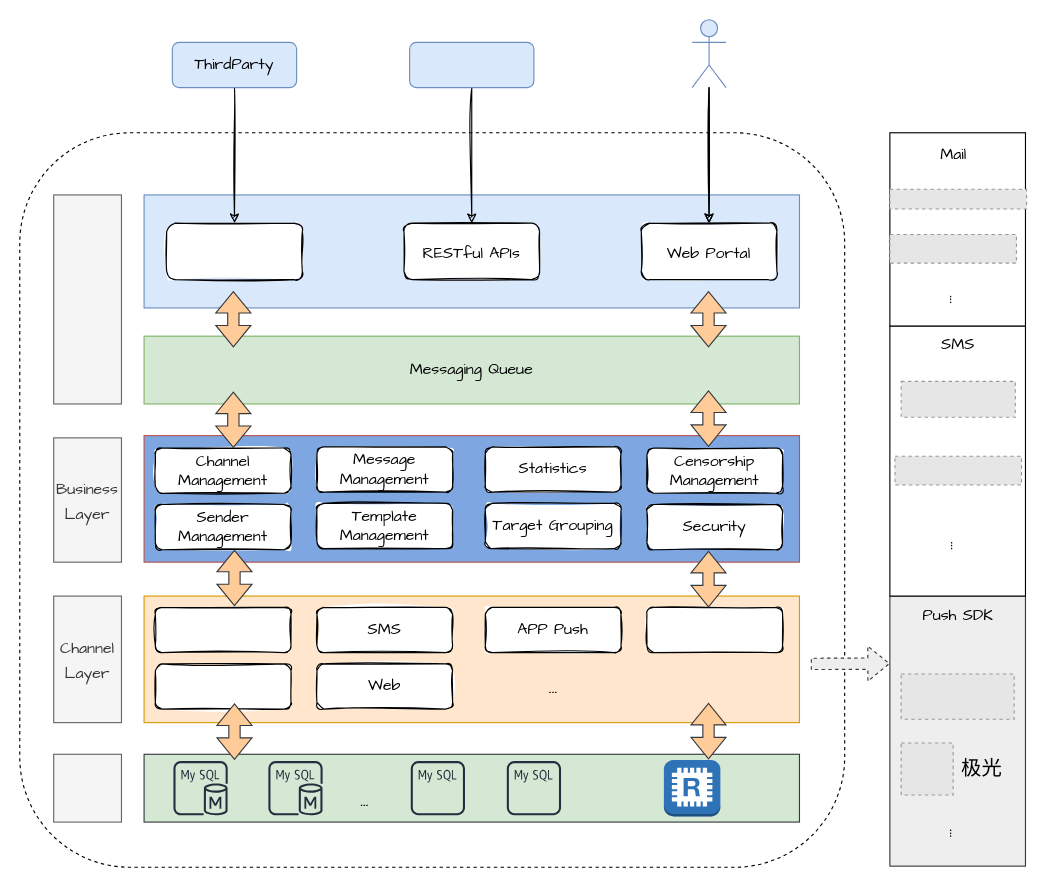
The diagram is 1046 pixels wide and 887 high, and some of its shapes have lost their labels. Grey dashed boxes stand in for pictures. The centre of each missing label's shape, as x and y in pixels:
Access Layer: (87,299)
DingTalk: (222,686)
Mail: (222,629)
OP: (708,53)
OpenAPIs: (234,251)
Products: (471,64)
Storage Layer: (87,787)
WeChat: (714,629)
